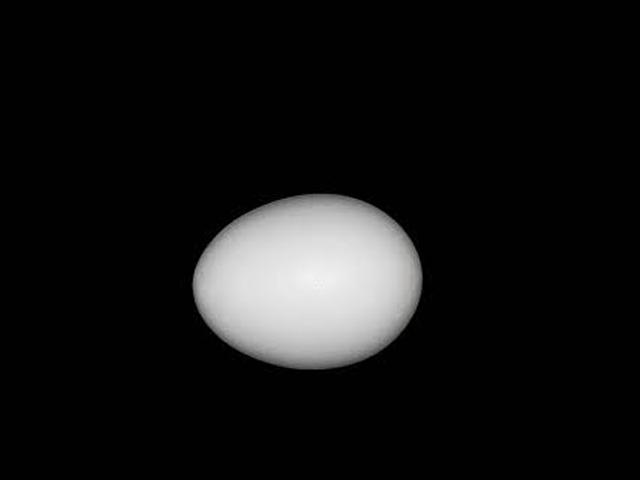egg: (194, 194, 421, 370)
